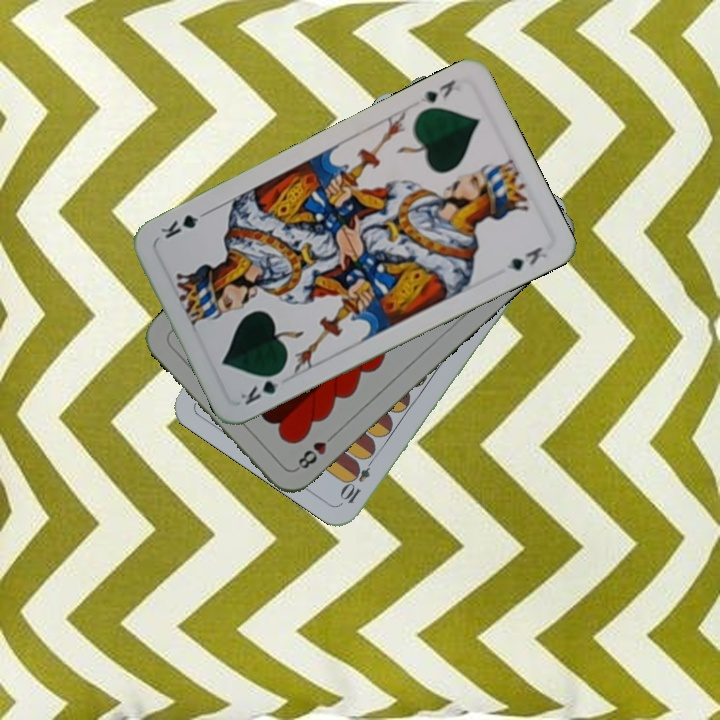E10: (337, 451, 378, 507)
GK: (235, 366, 287, 408), (416, 75, 458, 106)
H8: (292, 428, 339, 473)
